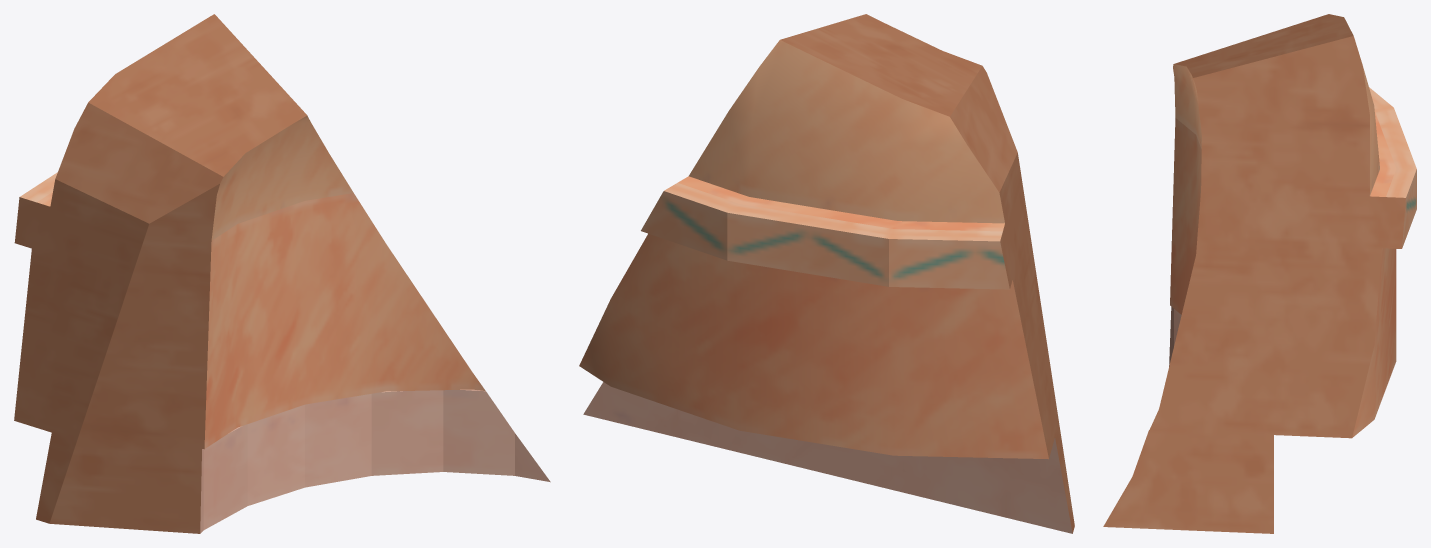
The model's file is dome_s00.fbx.
3 views of the same model, side by side, from view 1: azimuth 30°, elevation 25°; view 2: azimuth 150°, elevation 25°; view 3: azimuth 270°, elevation 25° (orthographic). The views are drawn at different scales.
Visible parts, largest first — view 1: dome_s00; view 2: dome_s00; view 3: dome_s00.
Part boxes in pixels (x1=…): dome_s00: x1=14, y1=14, x2=550, y2=533; dome_s00: x1=579, y1=14, x2=1074, y2=533; dome_s00: x1=1103, y1=14, x2=1416, y2=533.
Bounding box in the file's own units: 5.88 × 5.37 × 3.85.
